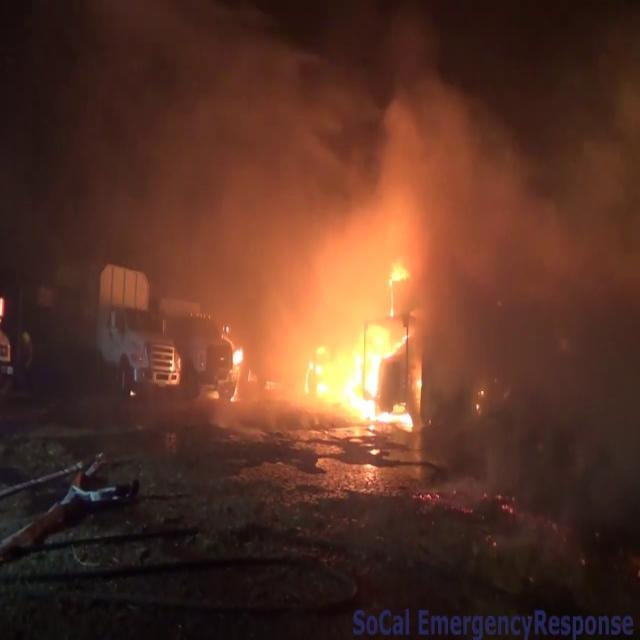Fire: (303, 248, 418, 427)
Smoke: (42, 0, 614, 383)
